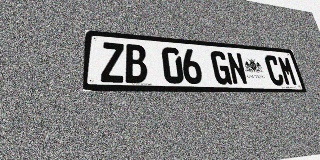0: (161, 47, 184, 84)
6: (180, 48, 203, 84)
B: (124, 44, 148, 83)
C: (263, 55, 285, 86)
G: (210, 51, 232, 85)
M: (277, 56, 298, 86)
N: (226, 52, 248, 85)
Z: (101, 42, 125, 83)
